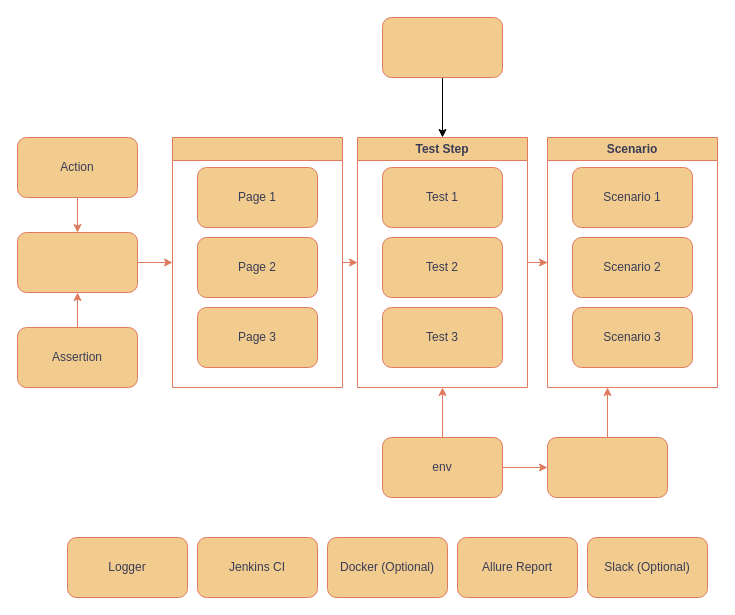
Some shapes in this 735 by 615 pixel diagram are drawn without their labels. The centre of each missing label's shape, as x and y in pixels:
Base Page: (x=77, y=262)
Data Driven: (x=442, y=47)
Page: (x=257, y=262)
Playwright config: (x=607, y=467)
